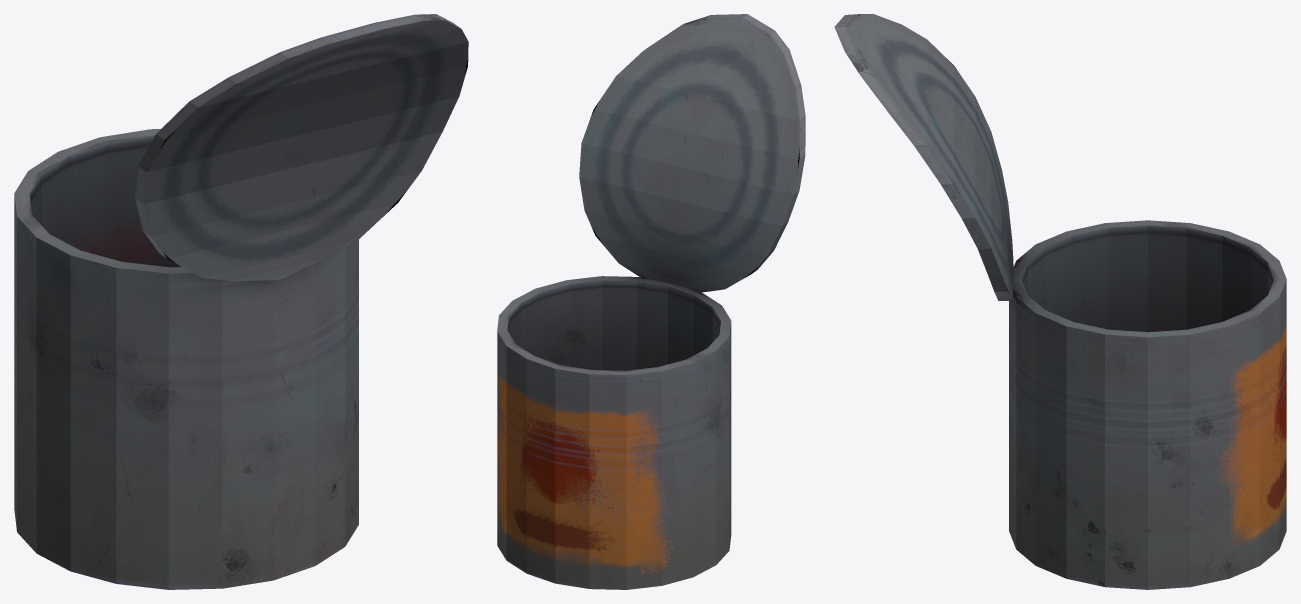
File: P_Can_002_S1_M01.obj
3 views of the same model, side by side, from view 1: azimuth 30°, elevation 25°; view 2: azimuth 150°, elevation 25°; view 3: azimuth 270°, elevation 25° (orthographic). The views are drawn at different scales.
Size of the model in its own units: 0.2035 by 0.393 by 0.3193.
1 material, 1 textured.
